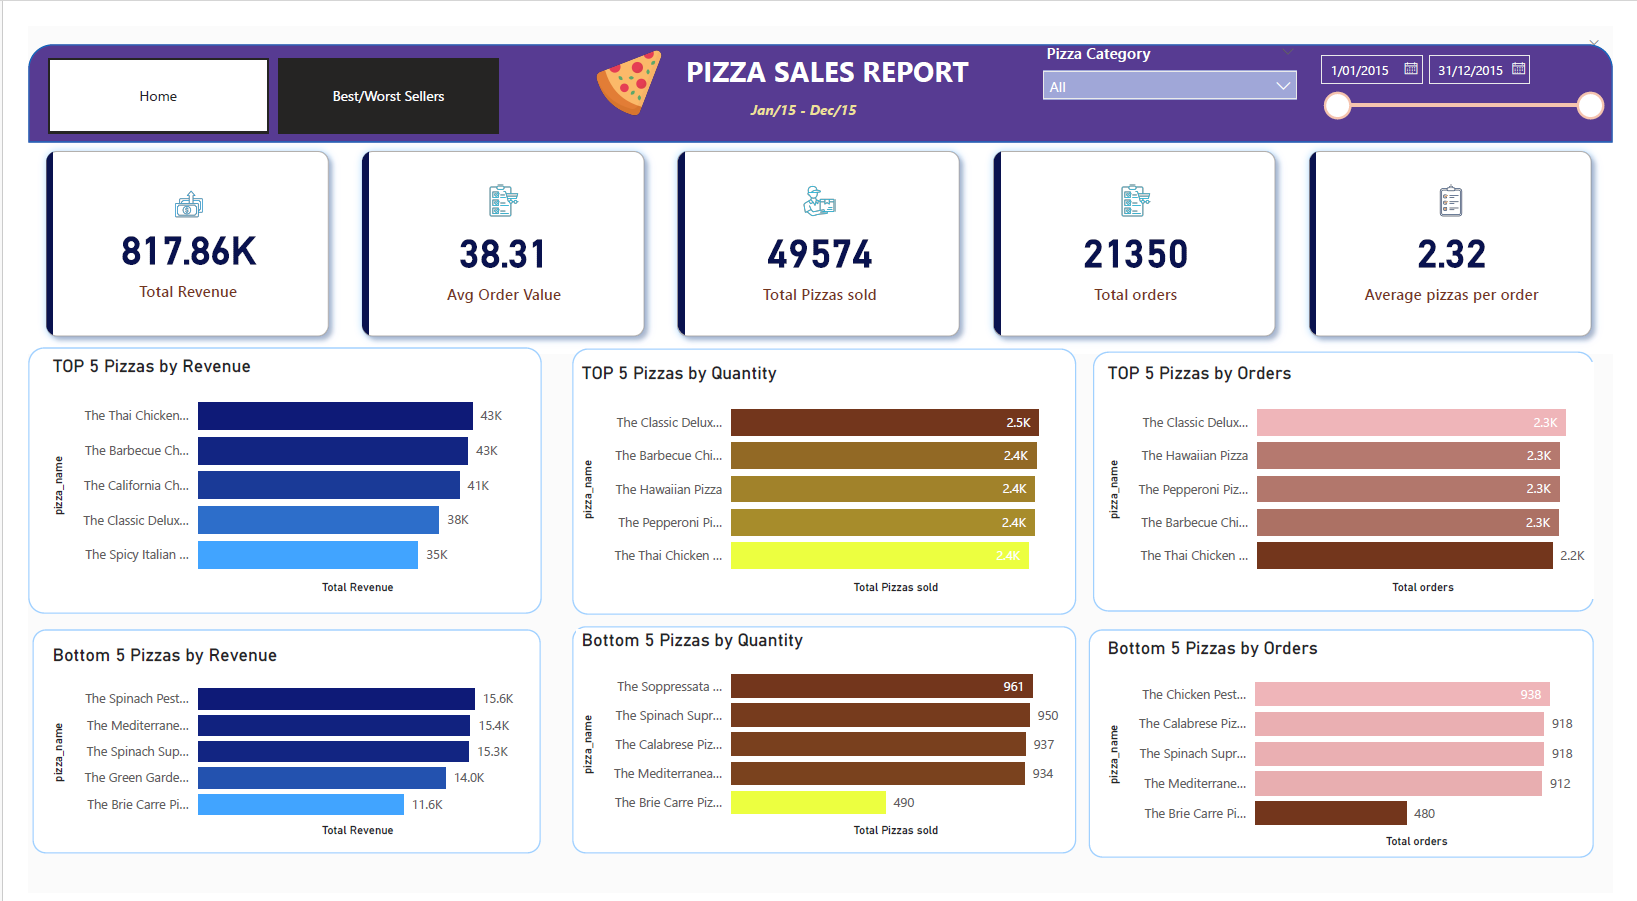

The dashboard page shown, as its layout file describes it:
{"tool":"powerbi","page":{"name":"Best/Worst Sellers","canvas":[1500,820],"ordinal":1},"visuals":[{"type":"cardVisual","fields":{"Data":["pizza_sales.Total Revenue","pizza_sales.Avg Order Value","pizza_sales.Total Pizzas sold","pizza_sales.Total orders","pizza_sales.Average pizzas per order"]},"box":[0,101.4,1500,208.6],"z":0},{"type":"shape","box":[0,17.1,1500,92.9],"z":1000},{"type":"textbox","box":[504.3,18.8,504.3,46.4],"z":2000},{"type":"textbox","box":[558,65.2,352.2,36.2],"z":3000},{"type":"image","box":[466.7,17.4,204.3,73.9],"z":4000},{"type":"shape","box":[0,303.6,486,252.1],"z":5000},{"type":"slicer","fields":{"Values":["pizza_sales.pizza_category"]},"box":[951.4,10,260,91.4],"z":6000},{"type":"slicer","title":"Order date","fields":{"Values":["pizza_sales.order_date"]},"box":[1211.4,8.6,288.6,92.9],"z":7000},{"type":"shape","box":[515.3,305,476.3,252.1],"z":8000},{"type":"shape","box":[1008.3,307.8,473.5,246.5],"z":9000},{"type":"shape","box":[4.2,571,480.5,211.7],"z":10000},{"type":"shape","box":[515.3,568.2,476.3,214.5],"z":11000},{"type":"shape","box":[1004.1,571,477.7,215.9],"z":12000},{"type":"barChart","title":"TOP 5 Pizzas by Revenue","fields":{"Category":["pizza_sales.pizza_name"],"Y":["pizza_sales.Total Revenue"]},"box":[18.1,310.6,449.8,231.2],"z":13000},{"type":"barChart","title":"Bottom 5 Pizzas by Revenue","fields":{"Category":["pizza_sales.pizza_name"],"Y":["pizza_sales.Total Revenue"]},"box":[18.1,584.9,449.8,186.6],"z":14000},{"type":"barChart","title":"TOP 5 Pizzas by Quantity","fields":{"Category":["pizza_sales.pizza_name"],"Y":["pizza_sales.Total Pizzas sold"]},"box":[519.5,317.5,462.4,224.2],"z":15000},{"type":"barChart","title":"Bottom 5 Pizzas by Quantity","fields":{"Category":["pizza_sales.pizza_name"],"Y":["pizza_sales.Total Pizzas sold"]},"box":[519.5,571,462.4,200.5],"z":16000},{"type":"barChart","title":"TOP 5 Pizzas by Orders","fields":{"Category":["pizza_sales.pizza_name"],"Y":["pizza_sales.Total orders"]},"box":[1016.6,317.5,465.2,224.2],"z":17000},{"type":"barChart","title":"Bottom 5 Pizzas by Orders","fields":{"Category":["pizza_sales.pizza_name"],"Y":["pizza_sales.Total orders"]},"box":[1016.6,578,455.4,204.7],"z":18000},{"type":"pageNavigator","box":[18.6,30,427.1,71.4],"z":19000}]}

Visuals, with their boxes in screenshot pixels (x1, y1, x2, y2), scaled from the page's 1500x820 canvas onto the 1637x901 screenshot:
cardVisual - pizza_sales.Total Revenue x pizza_sales.Avg Order Value: <region>0, 111, 1636, 341</region>
shape: <region>0, 19, 1636, 121</region>
textbox: <region>550, 21, 1101, 72</region>
textbox: <region>609, 72, 993, 111</region>
image: <region>509, 19, 732, 100</region>
shape: <region>0, 334, 530, 611</region>
slicer - pizza_sales.pizza_category: <region>1038, 11, 1322, 111</region>
"Order date" slicer: <region>1322, 9, 1636, 112</region>
shape: <region>562, 335, 1082, 612</region>
shape: <region>1100, 338, 1617, 609</region>
shape: <region>5, 627, 529, 860</region>
shape: <region>562, 624, 1082, 860</region>
shape: <region>1096, 627, 1617, 865</region>
"TOP 5 Pizzas by Revenue" barChart: <region>20, 341, 511, 595</region>
"Bottom 5 Pizzas by Revenue" barChart: <region>20, 643, 511, 848</region>
"TOP 5 Pizzas by Quantity" barChart: <region>567, 349, 1072, 595</region>
"Bottom 5 Pizzas by Quantity" barChart: <region>567, 627, 1072, 848</region>
"TOP 5 Pizzas by Orders" barChart: <region>1109, 349, 1617, 595</region>
"Bottom 5 Pizzas by Orders" barChart: <region>1109, 635, 1606, 860</region>
pageNavigator: <region>20, 33, 486, 111</region>
